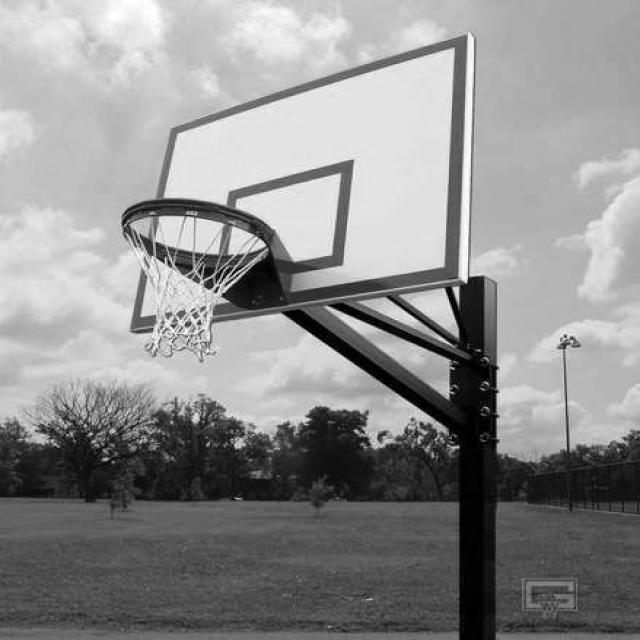backboard: (136, 39, 460, 323)
